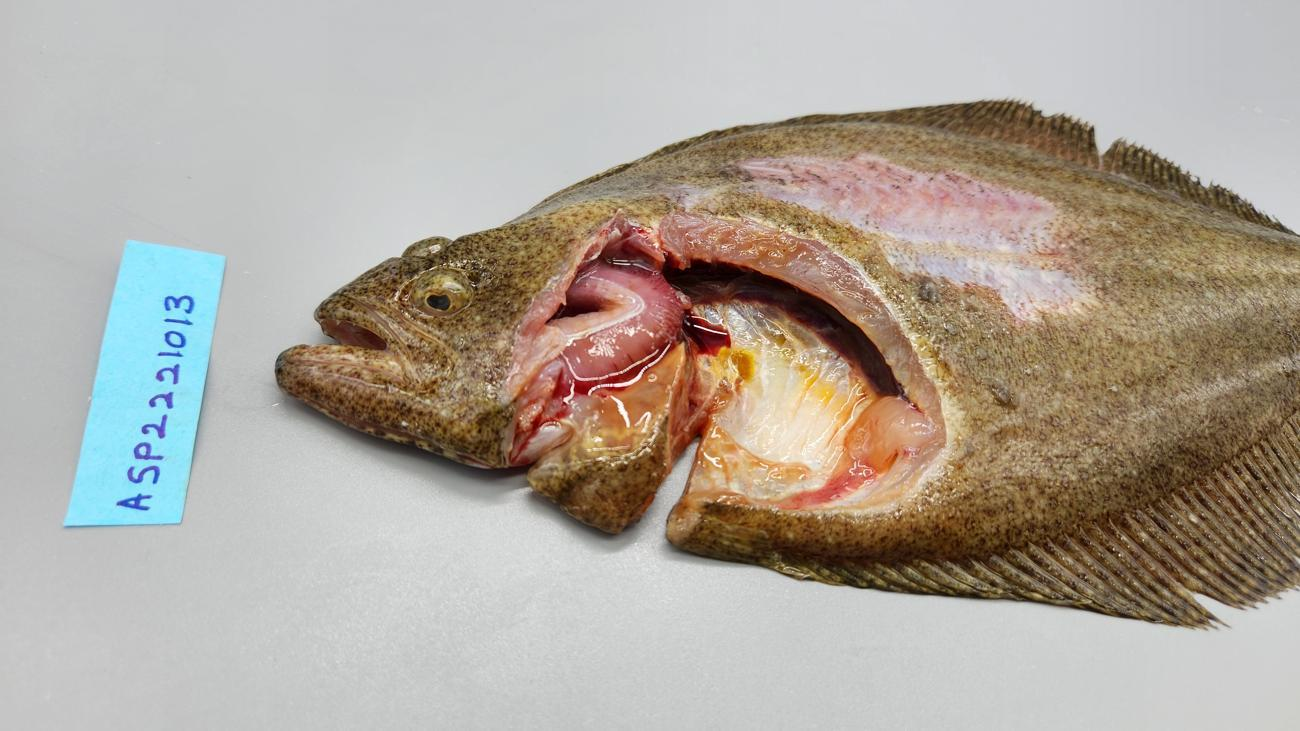SPASQ: (690, 300, 875, 501)
